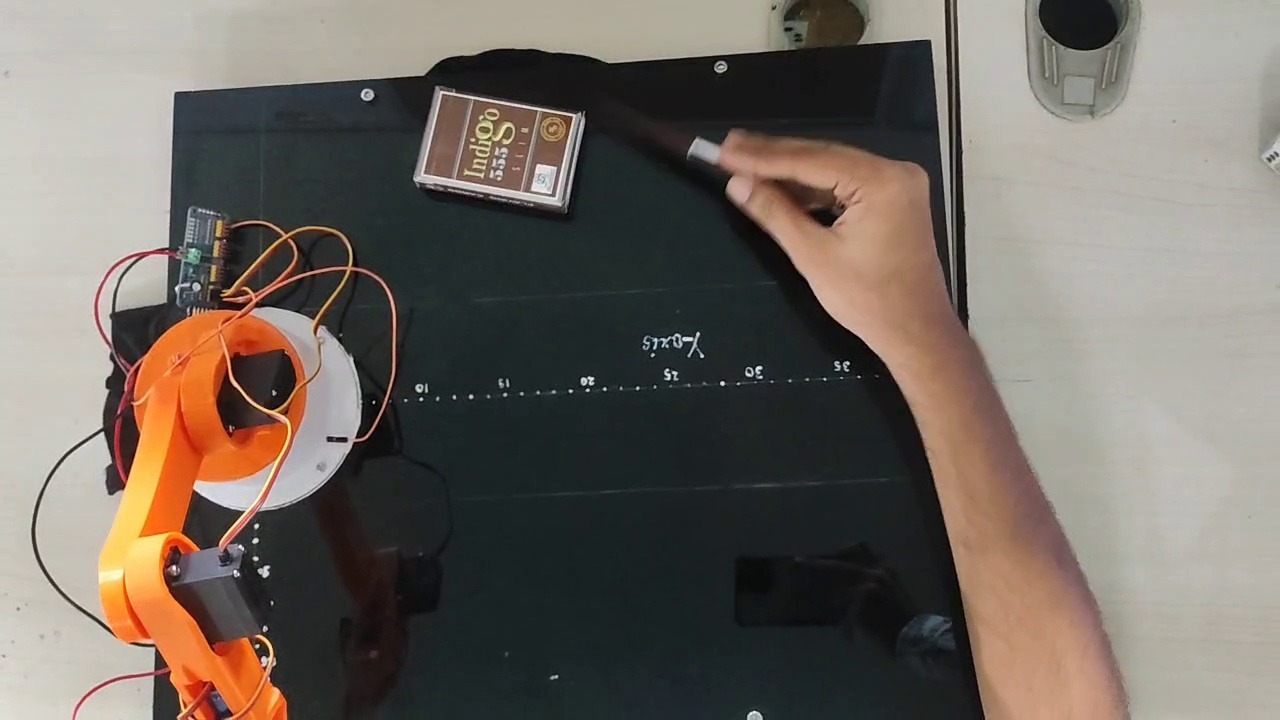BEX: (422, 91, 573, 198)
